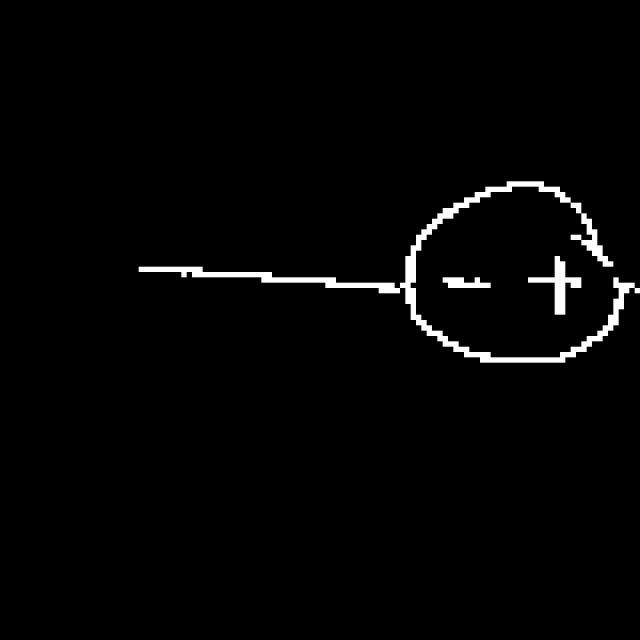voltage_source: (389, 155, 640, 400)
